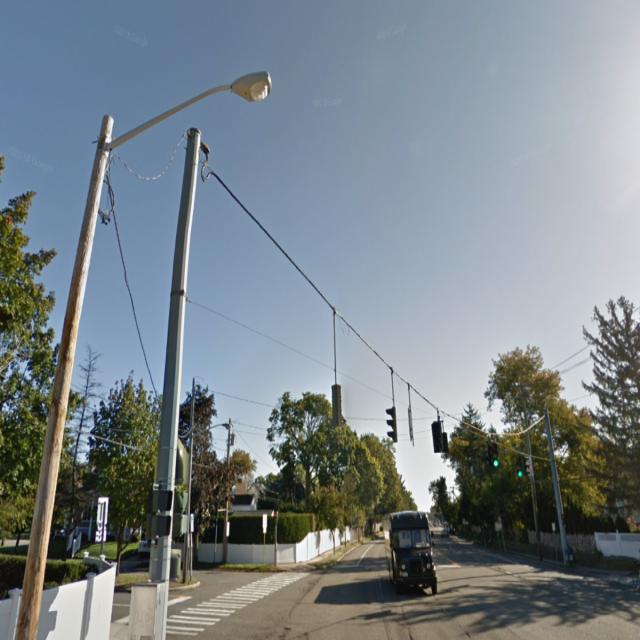Electric pole: (15, 72, 271, 640)
